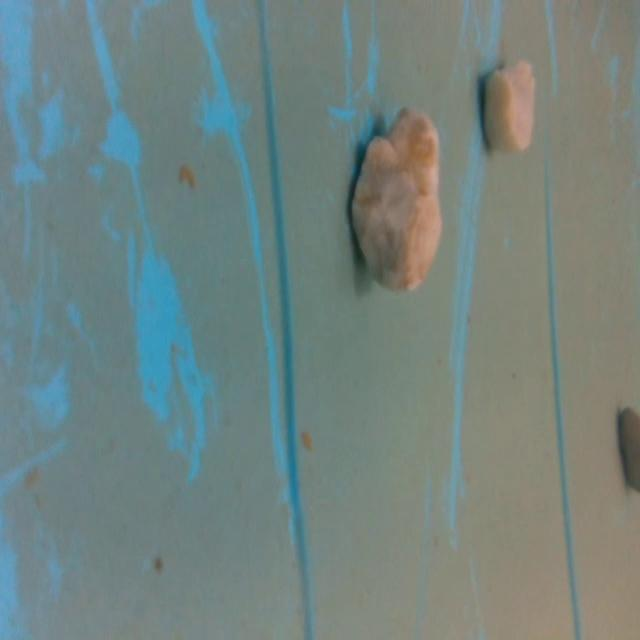rock: (346, 101, 451, 299), (480, 47, 539, 163)
